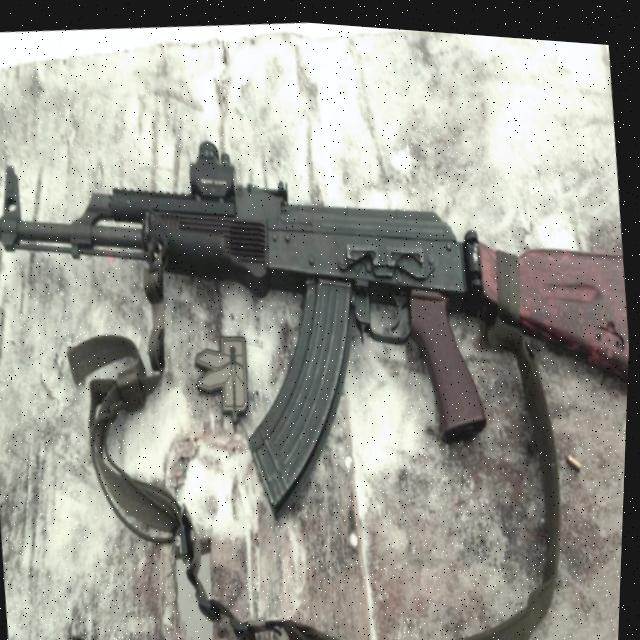firearm: (0, 82, 638, 554)
